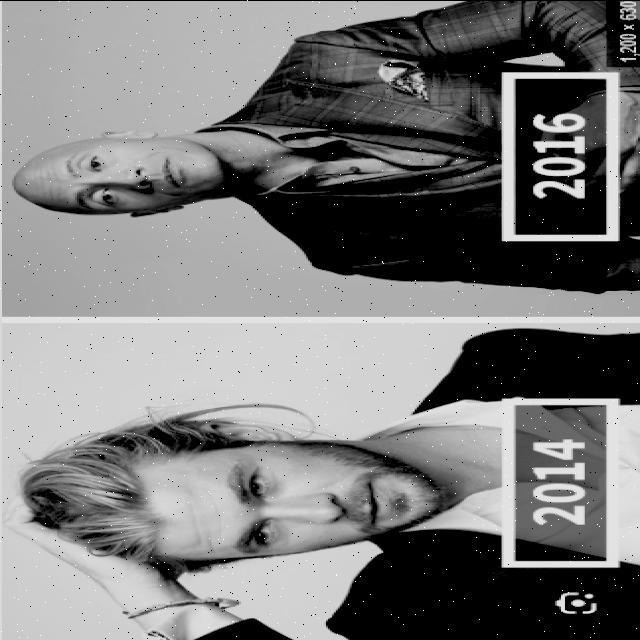face_no_mask: (140, 420, 435, 567), (50, 129, 236, 218)
